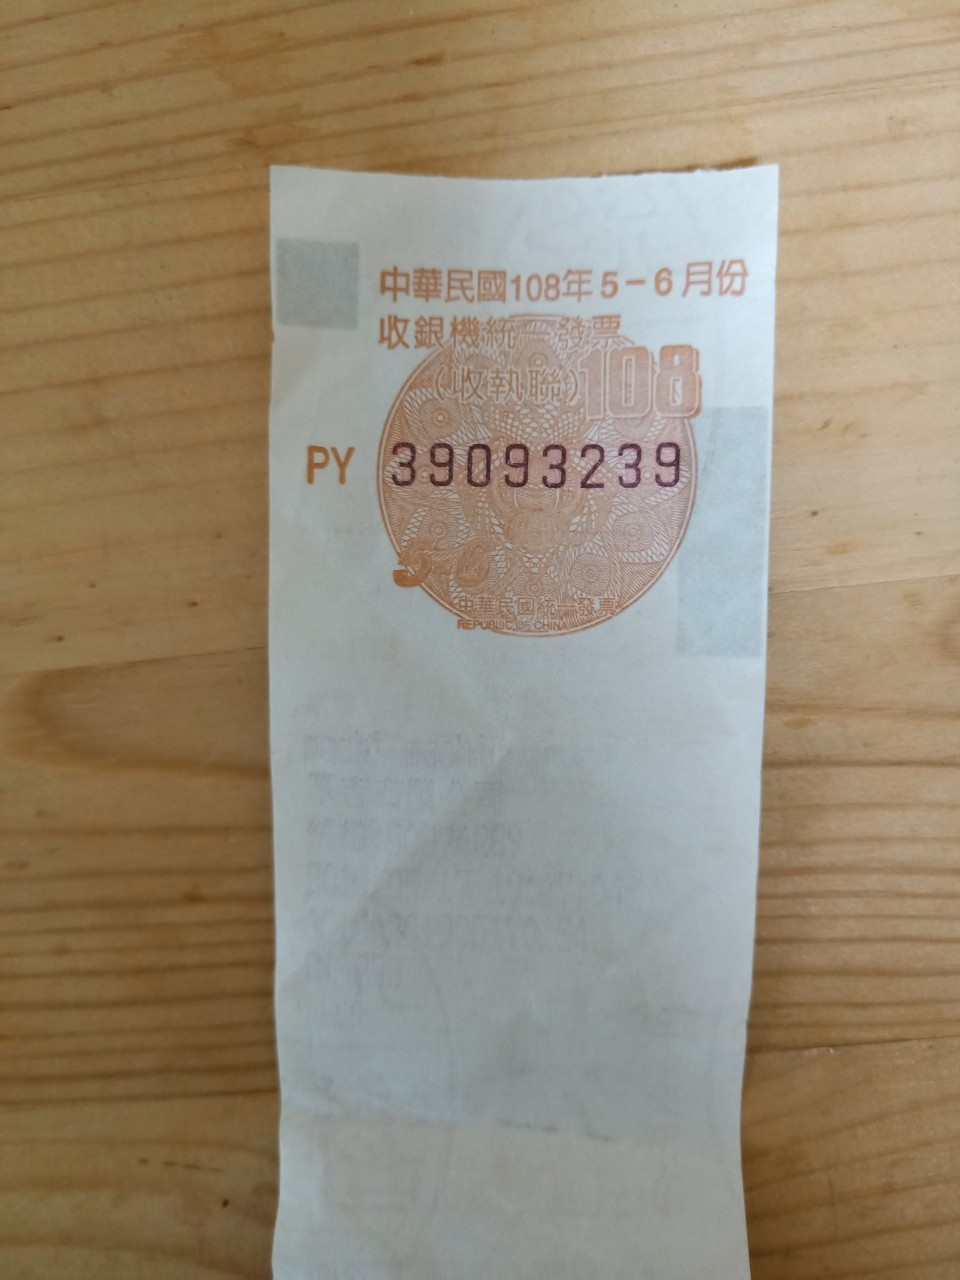Date_Old: (507, 255, 753, 306)
Number_Old: (386, 431, 688, 492)
